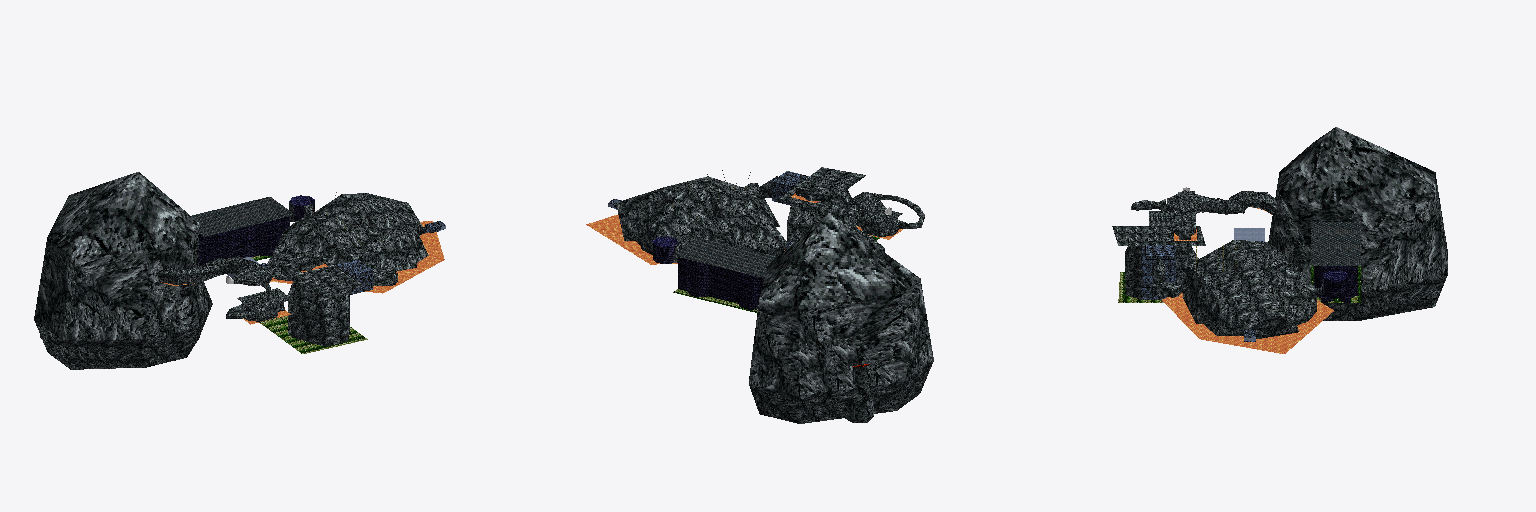
3 views of the same model, side by side, from view 1: azimuth 30°, elevation 25°; view 2: azimuth 150°, elevation 25°; view 3: azimuth 270°, elevation 25° (orthographic).
Visible parts, largest first — view 1: FireFloor#Room0, FireFloor#Room4, FireFloor#Room3, FireFloor#Room8, FireFloor#Room4#Lava, FireFloor#Room3#Void, FireFloor#Room2, FireFloor#Room9, FireFloor#Room7; view 2: FireFloor#Room0, FireFloor#Room4, FireFloor#Room8, FireFloor#Room3, FireFloor#Room4#Lava, FireFloor#Room9, FireFloor#Room2, FireFloor#Room7; view 3: FireFloor#Room0, FireFloor#Room4, FireFloor#Room3, FireFloor#Room8, FireFloor#Room4#Lava, FireFloor#Room7, FireFloor#Room9.
Boxes of the visible parts, x1,y1,x2,y2 form: FireFloor#Room0: [34, 172, 272, 369]; FireFloor#Room4: [267, 192, 428, 275]; FireFloor#Room3: [288, 257, 397, 346]; FireFloor#Room8: [192, 197, 294, 265]; FireFloor#Room4#Lava: [270, 221, 444, 293]; FireFloor#Room3#Void: [259, 316, 367, 353]; FireFloor#Room2: [237, 288, 292, 321]; FireFloor#Room9: [270, 248, 325, 274]; FireFloor#Room7: [289, 195, 314, 221]; FireFloor#Room0: [749, 192, 933, 423]; FireFloor#Room4: [616, 170, 786, 256]; FireFloor#Room8: [673, 238, 775, 309]; FireFloor#Room3: [744, 167, 865, 241]; FireFloor#Room4#Lava: [586, 215, 784, 264]; FireFloor#Room9: [793, 179, 848, 204]; FireFloor#Room2: [857, 211, 902, 236]; FireFloor#Room7: [653, 236, 678, 263]; FireFloor#Room0: [1167, 127, 1447, 320]; FireFloor#Room4: [1182, 240, 1316, 335]; FireFloor#Room3: [1112, 226, 1205, 299]; FireFloor#Room8: [1311, 222, 1360, 302]; FireFloor#Room4#Lava: [1162, 293, 1333, 353]; FireFloor#Room7: [1317, 270, 1347, 297]; FireFloor#Room9: [1174, 210, 1195, 239].
Bounding box in the file's own units: 13849 × 6312 × 11201.
87 materials, 36 textured.